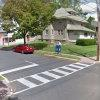Crosswalk: (4, 63, 100, 95)
